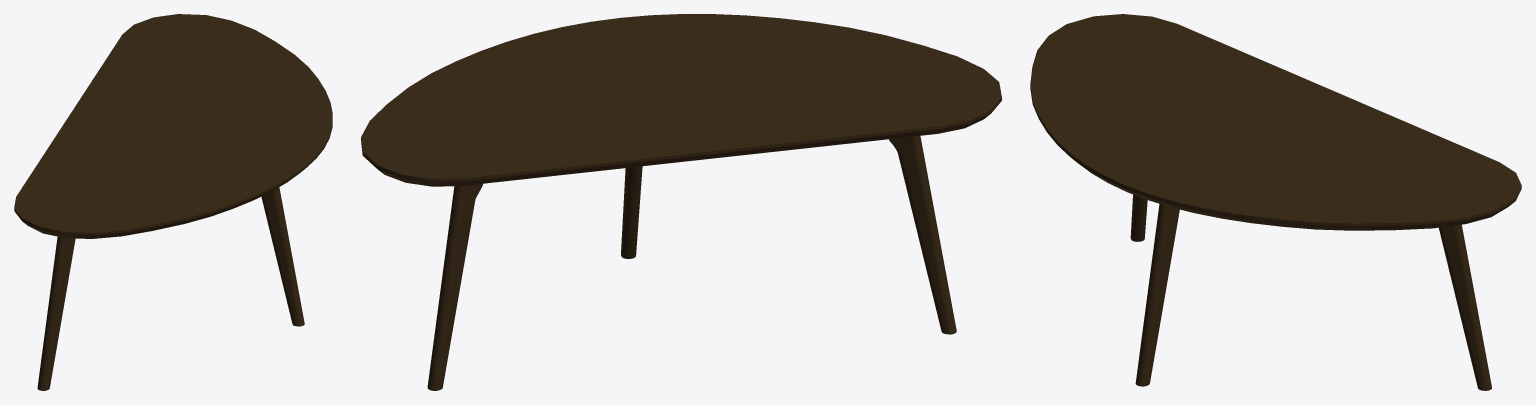
File: coffeTable.gltf
The picture shows the model from 3 angles, left to right: view 1: azimuth 30°, elevation 25°; view 2: azimuth 150°, elevation 25°; view 3: azimuth 270°, elevation 25°; orthographic projection. The views are drawn at different scales.
Parts seen in each view (by area): view 1: kitchen-rack; view 2: kitchen-rack; view 3: kitchen-rack.
Boxes of the visible parts, x1=… form: kitchen-rack: x1=14, y1=14, x2=332, y2=390; kitchen-rack: x1=361, y1=14, x2=1001, y2=390; kitchen-rack: x1=1030, y1=14, x2=1521, y2=390.
Size of the model in its own units: 0.6119 by 0.2854 by 0.6073.
